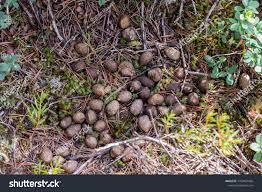Elk: (123, 60, 180, 128), (76, 54, 114, 139)
